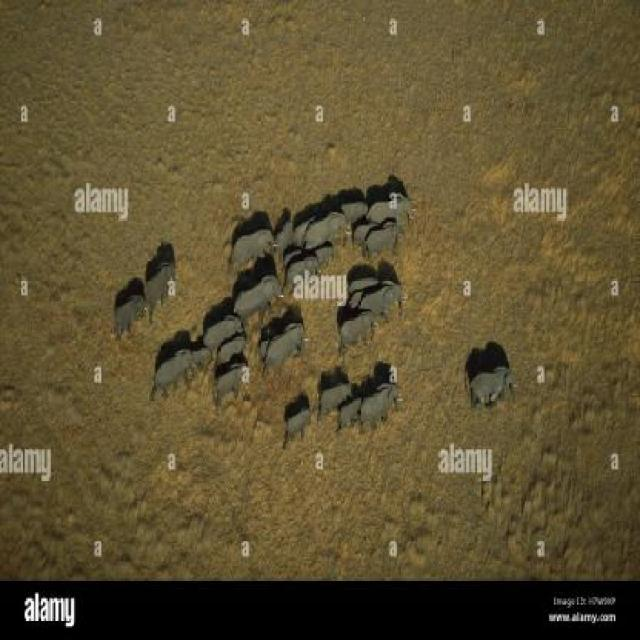elephant: (470, 362, 521, 416), (262, 317, 309, 375), (148, 344, 195, 398), (234, 272, 280, 323), (211, 356, 249, 413), (356, 274, 409, 312), (358, 377, 397, 428), (232, 220, 274, 263), (368, 192, 418, 228), (337, 305, 377, 350), (111, 286, 143, 340), (278, 250, 320, 290), (147, 261, 182, 308), (201, 312, 245, 348), (305, 215, 352, 248), (318, 373, 354, 413), (333, 388, 365, 432), (363, 218, 399, 257), (333, 193, 372, 225), (282, 404, 318, 434), (214, 337, 251, 366), (269, 215, 293, 250), (298, 203, 318, 245), (310, 243, 333, 274), (348, 267, 377, 290), (277, 249, 306, 271), (189, 345, 214, 364)
